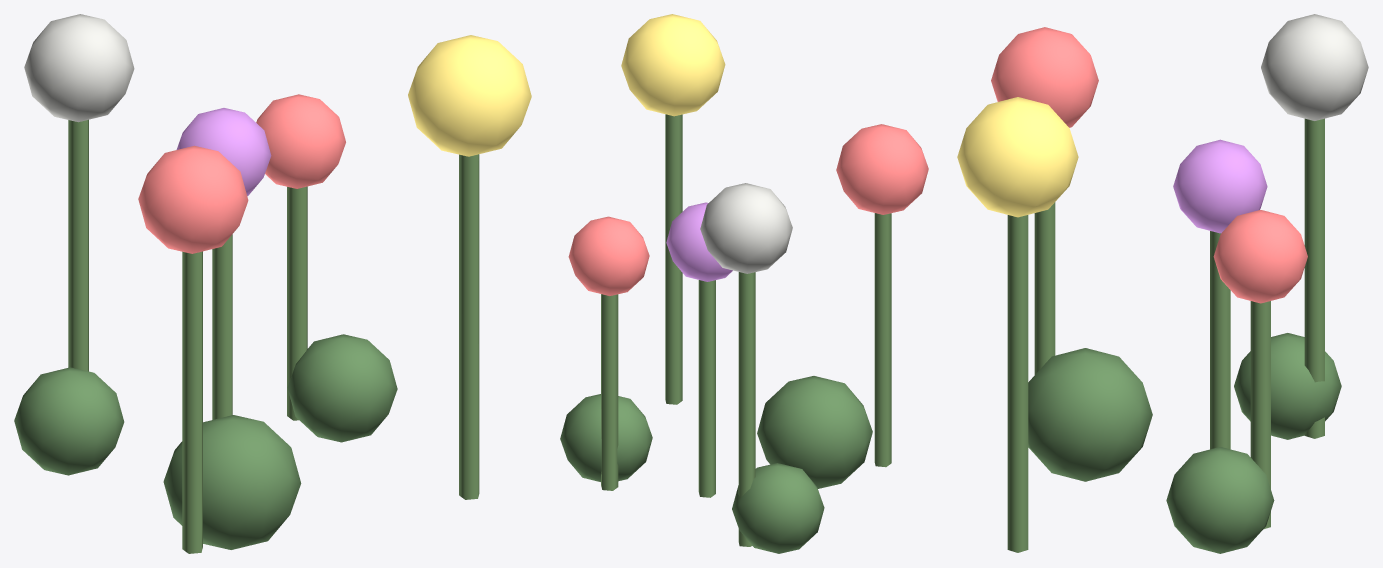
The model's file is flower_patch.glb.
3 views of the same model, side by side, from view 1: azimuth 30°, elevation 25°; view 2: azimuth 150°, elevation 25°; view 3: azimuth 270°, elevation 25° (orthographic). The views are drawn at different scales.
Visible parts, largest first — view 1: leaf_1, head_2, leaf_3, head_4, head_1, leaf_2, stem_2, stem_1, head_5, stem_4, head_3, stem_5 (+1 smaller); view 2: leaf_1, head_2, head_1, head_4, leaf_3, leaf_2, head_5, stem_2, stem_1, stem_4, stem_3, stem_5 (+1 smaller); view 3: leaf_1, head_2, head_4, leaf_2, stem_2, head_1, head_5, head_3, leaf_3, stem_4, stem_3, stem_5 (+1 smaller).
Boxes of the visible parts, <box> form: leaf_1: <box>163,415,301,549</box>; head_2: <box>408,35,531,156</box>; leaf_3: <box>14,367,124,475</box>; head_4: <box>24,14,134,122</box>; head_1: <box>138,145,248,253</box>; leaf_2: <box>287,334,397,442</box>; stem_2: <box>459,154,479,499</box>; stem_1: <box>182,251,202,553</box>; head_5: <box>256,94,345,188</box>; stem_4: <box>68,119,88,371</box>; head_3: <box>176,108,271,196</box>; stem_5: <box>287,186,307,420</box>; leaf_1: <box>757,376,872,488</box>; head_2: <box>621,14,725,116</box>; head_1: <box>836,124,928,214</box>; head_4: <box>700,183,792,273</box>; leaf_3: <box>732,463,824,553</box>; leaf_2: <box>560,394,652,481</box>; head_5: <box>568,216,649,295</box>; stem_2: <box>665,114,682,404</box>; stem_1: <box>874,213,891,467</box>; stem_4: <box>738,272,755,546</box>; stem_3: <box>698,280,715,497</box>; stem_5: <box>601,294,618,490</box>; leaf_1: <box>1028,348,1152,481</box>; head_2: <box>957,97,1078,217</box>; head_4: <box>1261,14,1368,120</box>; leaf_2: <box>1166,447,1274,553</box>; stem_2: <box>1007,215,1028,552</box>; head_1: <box>991,27,1098,127</box>; head_5: <box>1213,210,1307,303</box>; head_3: <box>1173,139,1267,233</box>; leaf_3: <box>1234,333,1341,439</box>; stem_4: <box>1304,118,1324,438</box>; stem_3: <box>1210,231,1230,449</box>; stem_5: <box>1250,301,1270,529</box>.
Size of the model in its own units: 0.305 by 0.385 by 0.305.
